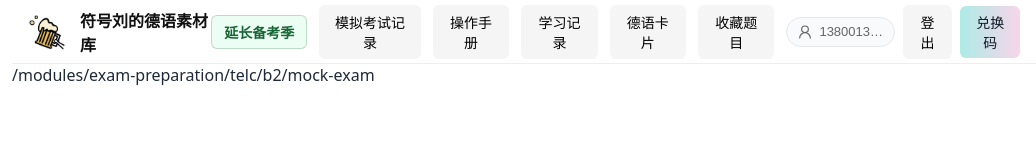
Test: mock exam navigation release gate › keeps the active level when opening the mock exam records page
Click the button "模拟考试记录" at (370, 32), box [319,4,421,58]
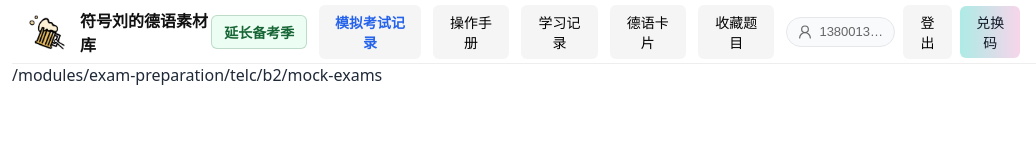
expect the text with test id "location" reads "/modules/exam-preparation/telc/b2/mock-exams": met, box [12,64,382,86]
